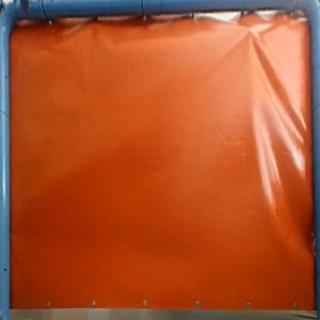Hit-hRxx: (240, 23, 261, 39)
